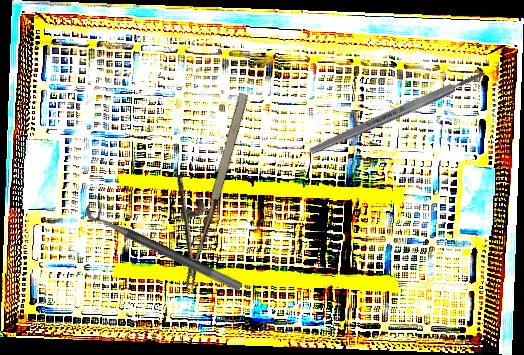Fixation Ring: (82, 193, 249, 293)
Needle Holder: (146, 82, 255, 289)
Scalpel Handle: (308, 68, 487, 157)
